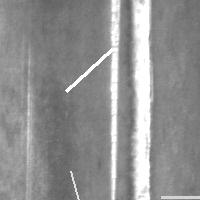scratches: (129, 1, 154, 199), (61, 44, 117, 96), (108, 1, 122, 199), (24, 40, 34, 199), (65, 166, 100, 200), (156, 192, 200, 200)
